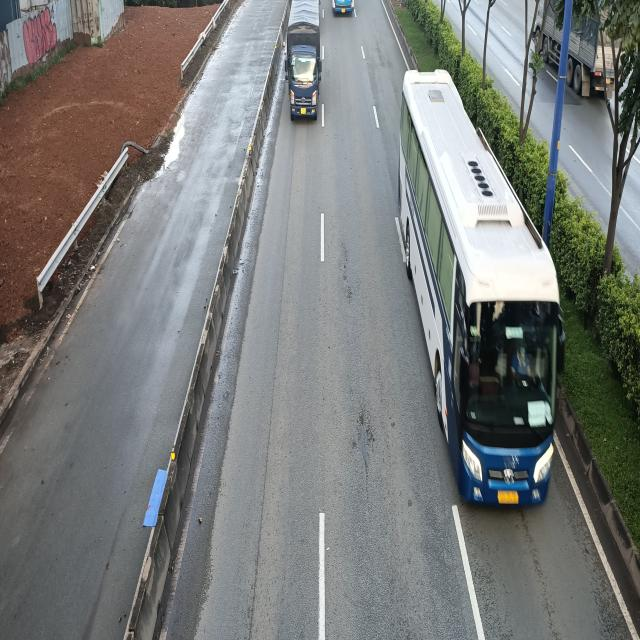coach: (398, 66, 563, 517)
truck: (282, 0, 320, 119)
